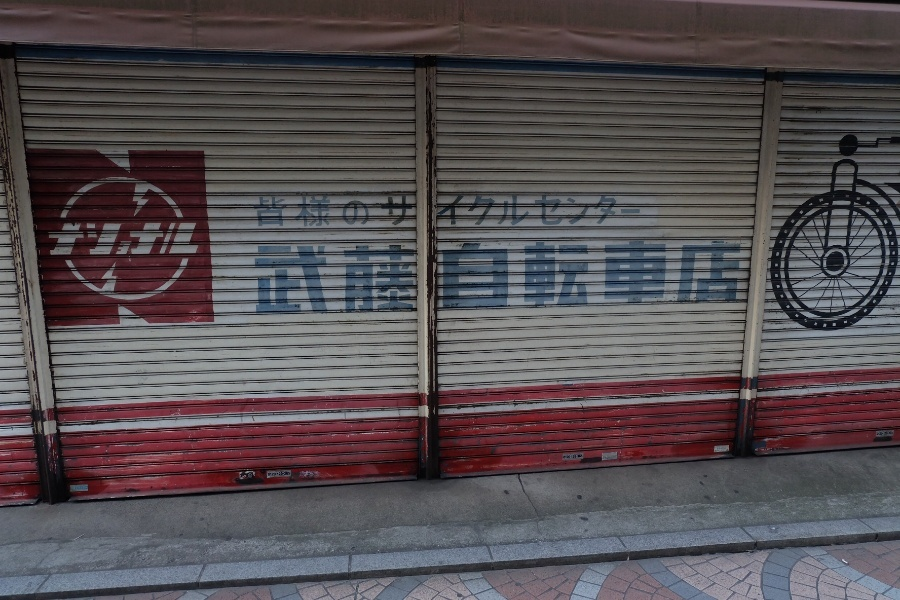text: (257, 241, 272, 317), (273, 241, 288, 317), (289, 241, 304, 317), (305, 241, 320, 317), (321, 241, 336, 317), (337, 241, 352, 317), (353, 241, 368, 317), (369, 241, 384, 317), (385, 241, 400, 317), (401, 241, 416, 317), (417, 241, 432, 317), (433, 241, 448, 317), (449, 241, 464, 317), (465, 241, 480, 317), (481, 241, 496, 317), (497, 241, 512, 317), (513, 241, 528, 317), (529, 241, 544, 317), (545, 241, 560, 317), (561, 241, 576, 317), (577, 241, 592, 317), (593, 241, 608, 317), (609, 241, 624, 317), (625, 241, 640, 317), (641, 241, 656, 317), (657, 241, 672, 317), (673, 241, 688, 317), (689, 241, 704, 317), (705, 241, 720, 317), (721, 241, 736, 317), (625, 196, 641, 228), (49, 223, 64, 256), (65, 223, 80, 256), (81, 223, 96, 256), (97, 223, 112, 256), (113, 223, 128, 256), (129, 223, 144, 256), (145, 223, 160, 256), (161, 223, 176, 256), (177, 223, 192, 256), (257, 196, 272, 228), (273, 196, 288, 228), (289, 196, 304, 228), (305, 196, 320, 228), (321, 196, 336, 228), (337, 196, 352, 228), (353, 196, 368, 228), (369, 196, 384, 228), (385, 196, 400, 228), (401, 196, 416, 228), (417, 196, 432, 228), (433, 196, 448, 228), (449, 196, 464, 228), (465, 196, 480, 228), (481, 196, 496, 228), (497, 196, 512, 228), (513, 196, 528, 228), (529, 196, 544, 228), (545, 196, 560, 228), (561, 196, 576, 228), (577, 196, 592, 228), (593, 196, 608, 228), (609, 196, 624, 228), (737, 241, 742, 317), (193, 223, 199, 256), (253, 196, 256, 228), (255, 241, 256, 317), (273, 472, 288, 477), (268, 472, 272, 477), (289, 472, 290, 477)
